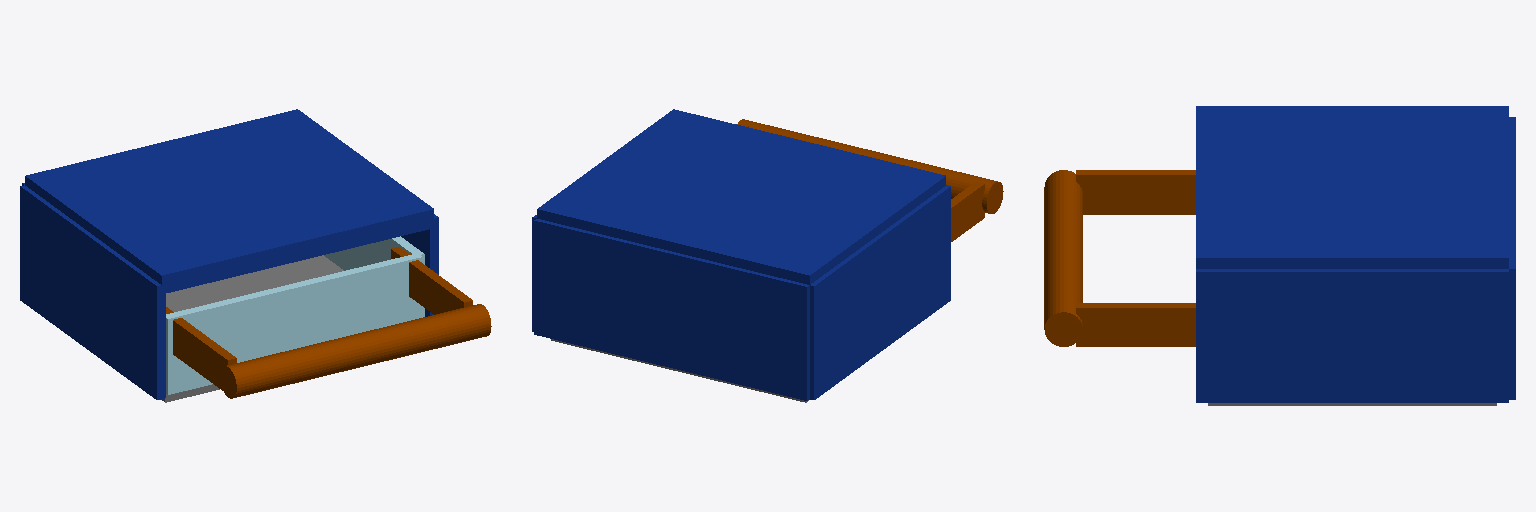
robot.urdf — bowl.urdf:
<?xml version="0.0" ?>
<robot name="bowl.urdf">
  <material name="mainColor">
    <color rgba=".1 .25 .6 1."/>
  </material>
  <material name="baseColor">
    <color rgba=".68 .85 .90 1."/>
  </material>
  <material name="grey">
    <color rgba=".5 .5 .5 1."/>
  </material>
  <material name="brown">
    <color rgba=".59 .29 0.0 1."/>
  </material>

  <link name="world"/>

  <link name="base">
    <contact>
      <rolling_friction value="10.0"/>
      <lateral_friction value="10.0"/>
      <spinning_friction value="10.0"/>
    </contact>
    <inertial>
      <origin rpy="0 0 0" xyz="0.0 0.0 0.0"/>
       <mass value="0.1"/>
       <inertia ixx="1" ixy="0" ixz="0" iyy="1" iyz="0" izz="1"/>
    </inertial>
    <!-- bottom -->
    <visual>
      <origin rpy="0 0 0" xyz="0 0 -0.2"/>
      <geometry>
        <box size="1.4 1.2 .1"/>
      </geometry>
      <material name="grey"/>
    </visual>
    <visual>
      <!-- right -->
      <origin rpy="0 0 0" xyz="0 -.6 0"/>
      <geometry>
        <box size="1.4 .05 0.4"/>
      </geometry>
      <material name="baseColor"/>
    </visual>
    <visual>
      <!-- left -->
      <origin rpy="0 0 0" xyz="0 .6 0"/>
      <geometry>
        <box size="1.4 .05 0.4"/>
      </geometry>
      <material name="baseColor"/>
    </visual>
    <visual>
      <!-- front -->
      <origin rpy="0 0 0" xyz=".7 0 0"/>
      <geometry>
        <box size=".05 1.2 0.4"/>
      </geometry>
      <material name="baseColor"/>
    </visual>
    <visual>
      <!-- back -->
      <origin rpy="0 0 0" xyz="-.7 0 0"/>
      <geometry>
        <box size=".05 1.2 0.4"/>
      </geometry>
      <material name="baseColor"/>
    </visual>

    <collision>
      <!--Bottom --> 
      <origin rpy="0 0 0" xyz="0 0 -.2"/>
      <geometry>
        <box size="1.4 1.2 .1"/>
      </geometry>
    </collision>
    <collision>
      <!-- right -->
      <origin rpy="0 0 0" xyz="0 -.6 0"/>
      <geometry>
        <box size="1.4 .05 0.4"/>
      </geometry>
    </collision>
    <collision>
      <!-- left -->
      <origin rpy="0 0 0" xyz="0 .6 0"/>
      <geometry>
        <box size="1.4 .05 0.4"/>
      </geometry>
    </collision>
    <collision>
      <!-- front -->
      <origin rpy="0 0 0" xyz=".7 0 0"/>
      <geometry>
        <box size=".05 1.2 0.4"/>
      </geometry>
    </collision>
    <collision>
      <!-- back -->
      <origin rpy="0 0 0" xyz="-.7 0 0"/>
      <geometry>
        <box size=".05 1.2 0.4"/>
      </geometry>
    </collision>
  </link>

  <link name="handle_r">
    <contact>
      <rolling_friction value="1000.0"/>
      <lateral_friction value="1000.0"/>
      <!-- lateral_friction was key to not making the gripper slide on the handle--> 
      <spinning_friction value="1000.0"/>
      <contact_cfm value="0.0"/>
      <contact_erp value="1.0"/>
    </contact>
    <inertial>
      <origin rpy="0 1.57 0" xyz="0 0 0"/>
      <mass value=".1"/>
      <inertia ixx="1" ixy="0" ixz="0" iyy="1" iyz="0" izz="1"/>
    </inertial>
    <visual>
      <origin rpy="0 1.57 0" xyz="0 0 0"/>
      <geometry>
        <cylinder radius="0.08" length="1.4"/>
      </geometry>
      <material name="brown"/>
    </visual>
    <collision>
      <origin rpy="0 1.57 0" xyz="0 0 0"/>
      <geometry>
        <cylinder radius="0.08" length="1.4"/>
      </geometry>
    </collision>
  </link>

  <link name="handle_plate_far">
    <contact>
      <rolling_friction value="1000.0"/>
      <lateral_friction value="1000.0"/>
      <spinning_friction value="1000.0"/>
      <contact_cfm value="0.0"/>
      <contact_erp value="1.0"/>
    </contact>
    <inertial>
      <origin rpy="0 1.57 0" xyz="0 0 0"/>
      <mass value=".1"/>
      <inertia ixx="1" ixy="0" ixz="0" iyy="1" iyz="0" izz="1"/>
    </inertial>
    <visual>
      <origin rpy="0 0 0" xyz="0 0 0"/>
      <geometry>
        <box size=".05 .7 .18"/>
      </geometry>
      <material name="brown"/>
    </visual>
    <collision>
      <origin rpy="0 0 0" xyz="0 0 0"/>
      <geometry>
        <box size=".05 .7 .18"/>
      </geometry>
    </collision>
  </link>

  <link name="handle_plate_near">
    <contact>
      <rolling_friction value="1000.0"/>
      <lateral_friction value="1000.0"/>
      <spinning_friction value="1000.0"/>
      <contact_cfm value="0.0"/>
      <contact_erp value="1.0"/>
    </contact>
    <inertial>
      <origin rpy="0 1.57 0" xyz="0 0 0"/>
      <mass value=".1"/>
      <inertia ixx="1" ixy="0" ixz="0" iyy="1" iyz="0" izz="1"/>
    </inertial>
    <visual>
      <origin rpy="0 0 0" xyz="0 0 0"/>
      <geometry>
        <box size=".05 .7 .18"/>
      </geometry>
      <material name="brown"/>
    </visual>
    <collision>
      <origin rpy="0 0 0" xyz="0 0 0"/>
      <geometry>
        <box size=".05 .7 .18"/>
      </geometry>
    </collision>
  </link>

  <link name="frame">
    <contact>
      <lateral_friction value="0.5"/>
      <rolling_friction value="0.0"/>
      <contact_cfm value="0.0"/>
      <contact_erp value="1.0"/>
    </contact>
    <inertial>
      <origin rpy="0 0 0" xyz="0.0 0.0 0.0"/>
       <mass value=".1"/>
       <inertia ixx="1" ixy="0" ixz="0" iyy="1" iyz="0" izz="1"/>
    </inertial>
    <visual>
      <!--Top-->
      <origin rpy="0 0 0" xyz="0 0 .3"/>
      <geometry>
        <box size="1.5 1.3 .1"/>
      </geometry>
      <material name="mainColor"/>
    </visual>
    <visual>
      <!--Right-->
      <origin rpy="0 0 0" xyz="0 .65 0"/>
      <geometry>
        <box size="1.5 .05 .6"/>
      </geometry>
      <material name="mainColor"/>
    </visual>
    <visual>
      <!--Front-->
      <origin rpy="0 0 0" xyz=".75 0 0"/>
      <geometry>
        <box size=".05 1.3 .6"/>
      </geometry>
      <material name="mainColor"/>
    </visual>
    <visual>
      <!--Back-->
      <origin rpy="0 0 0" xyz="-.75 0 0"/>
      <geometry>
        <box size=".05 1.3 .6"/>
      </geometry>
      <material name="mainColor"/>
    </visual>

    <collision>
      <!--Top-->
      <origin rpy="0 0 0" xyz="0 0 .3"/>
      <geometry>
        <box size="1.5 1.3 .1"/>
      </geometry>
    </collision>
    <collision>
      <!--Right-->
      <origin rpy="0 0 0" xyz="0 .65 0"/>
      <geometry>
        <box size="1.5 .05 .6"/>
      </geometry>
    </collision>
    <collision>
      <!--Front-->
      <origin rpy="0 0 0" xyz=".75 0 0"/>
      <geometry>
        <box size=".05 1.3 .6"/>
      </geometry>
    </collision>
    <collision>
      <!--Back-->
      <origin rpy="0 0 0" xyz="-.75 0 0"/>
      <geometry>
        <box size=".05 1.3 .6"/>
      </geometry>
    </collision>
  </link>

  <joint name="frame_joint" type="fixed">
    <parent link="world"/>
    <child link="frame"/>
  </joint>

  <joint name="base_frame_joint" type="prismatic">
    <origin rpy="0 0 0" xyz="0 0 -.1"/>
    <parent link="frame"/>
    <child link="base"/>
    <axis rpy="0 0 0" xyz="0 1 0"/>
    <limit effort="100" lower="-1.25" upper="0" velocity="100"/>
    <dynamics damping="0.0" friction=".01"/>
  </joint>

  <joint name="handle_plate_far_joint" type="fixed">
    <origin rpy="0 0 0" xyz="-0.65 -0.8 0.1"/>
    <parent link="base"/>
    <child link="handle_plate_far"/>
  </joint>

  <joint name="handle_plate_near_joint" type="fixed">
    <origin rpy="0 0 0" xyz="0.65 -0.8 0.1"/>
    <parent link="base"/>
    <child link="handle_plate_near"/>
  </joint>

  <joint name="handle_r_joint" type="fixed">
    <origin rpy="0 0 0" xyz="0 -1.2 0.1"/>
    <parent link="base"/>
    <child link="handle_r"/>
  </joint>

</robot>

--- Render facts (derived) ---
Views: 3 orthographic renders of the robot side by side, from view 1: azimuth 30°, elevation 25°; view 2: azimuth 150°, elevation 25°; view 3: azimuth 270°, elevation 25°.
Robot: bowl.urdf — 6 links, 5 joints (1 prismatic, 4 fixed); root link world; default pose: all joints at 0.
Links seen in each view (by area): view 1: frame, base, handle_r, handle_plate_far, handle_plate_near; view 2: frame, handle_r, handle_plate_far; view 3: frame, handle_r, handle_plate_far, handle_plate_near, base.
Boxes of the visible links, box(x1,y1,x2,y2) form: frame: box(20, 109, 438, 399); base: box(161, 236, 424, 402); handle_r: box(220, 304, 491, 398); handle_plate_far: box(166, 307, 236, 390); handle_plate_near: box(391, 247, 472, 314); frame: box(532, 109, 950, 400); handle_r: box(737, 119, 1003, 213); handle_plate_far: box(951, 181, 984, 241); frame: box(1196, 106, 1515, 402); handle_r: box(1044, 170, 1082, 346); handle_plate_far: box(1076, 170, 1195, 214); handle_plate_near: box(1076, 303, 1195, 346); base: box(1208, 403, 1496, 405).
Size in the robot's own frame: 1.55 by 1.96 by 0.7 metres.
Geometry: primitives only (box / cylinder / sphere), no mesh files.